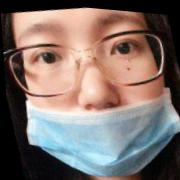WRONG: (7, 1, 180, 180)
